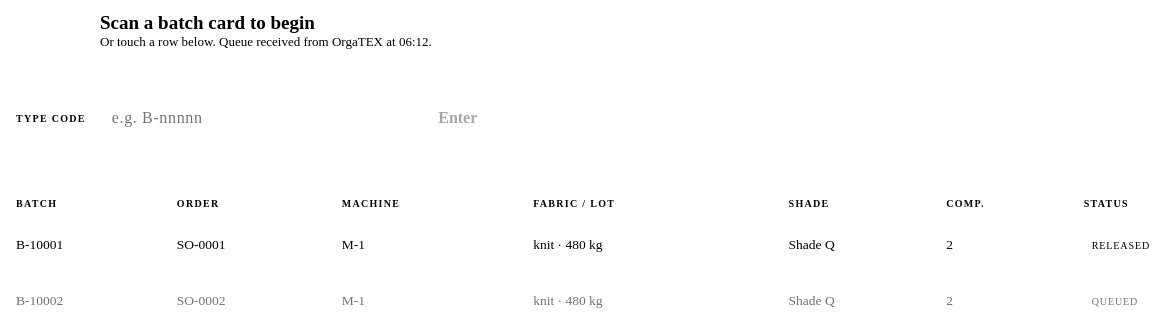
Scenario: SelectBatchScreen — selecting a batch (workbook Step 19) › a code that is not a batch card is refused with a message
This screenshot has width=1166, height=325.
Type "x-1234" into the field labelled "Type code". click: coordinates (242, 118)
box: [98,90,386,146]
Then press Enter
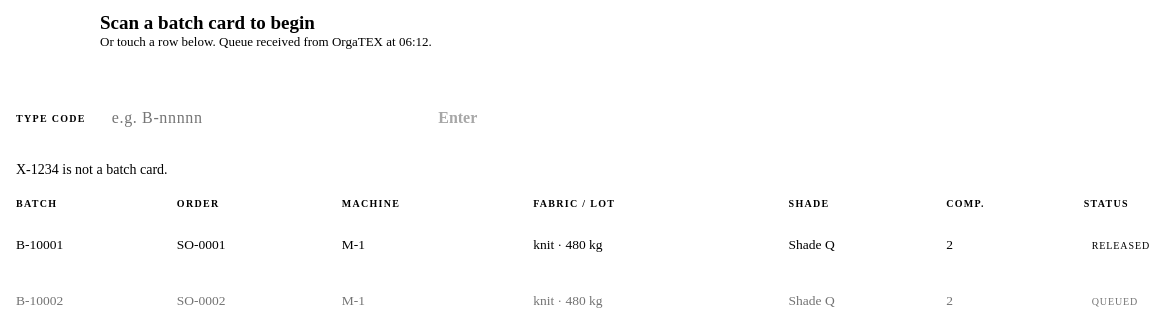
Now the text "X-1234 is not a batch card." is shown, box [16,162,168,177]
